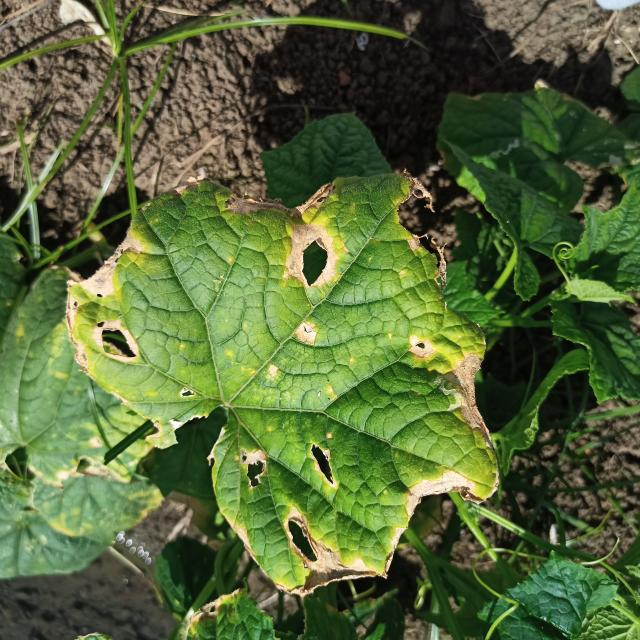disease_cucumber: (64, 176, 496, 589)
